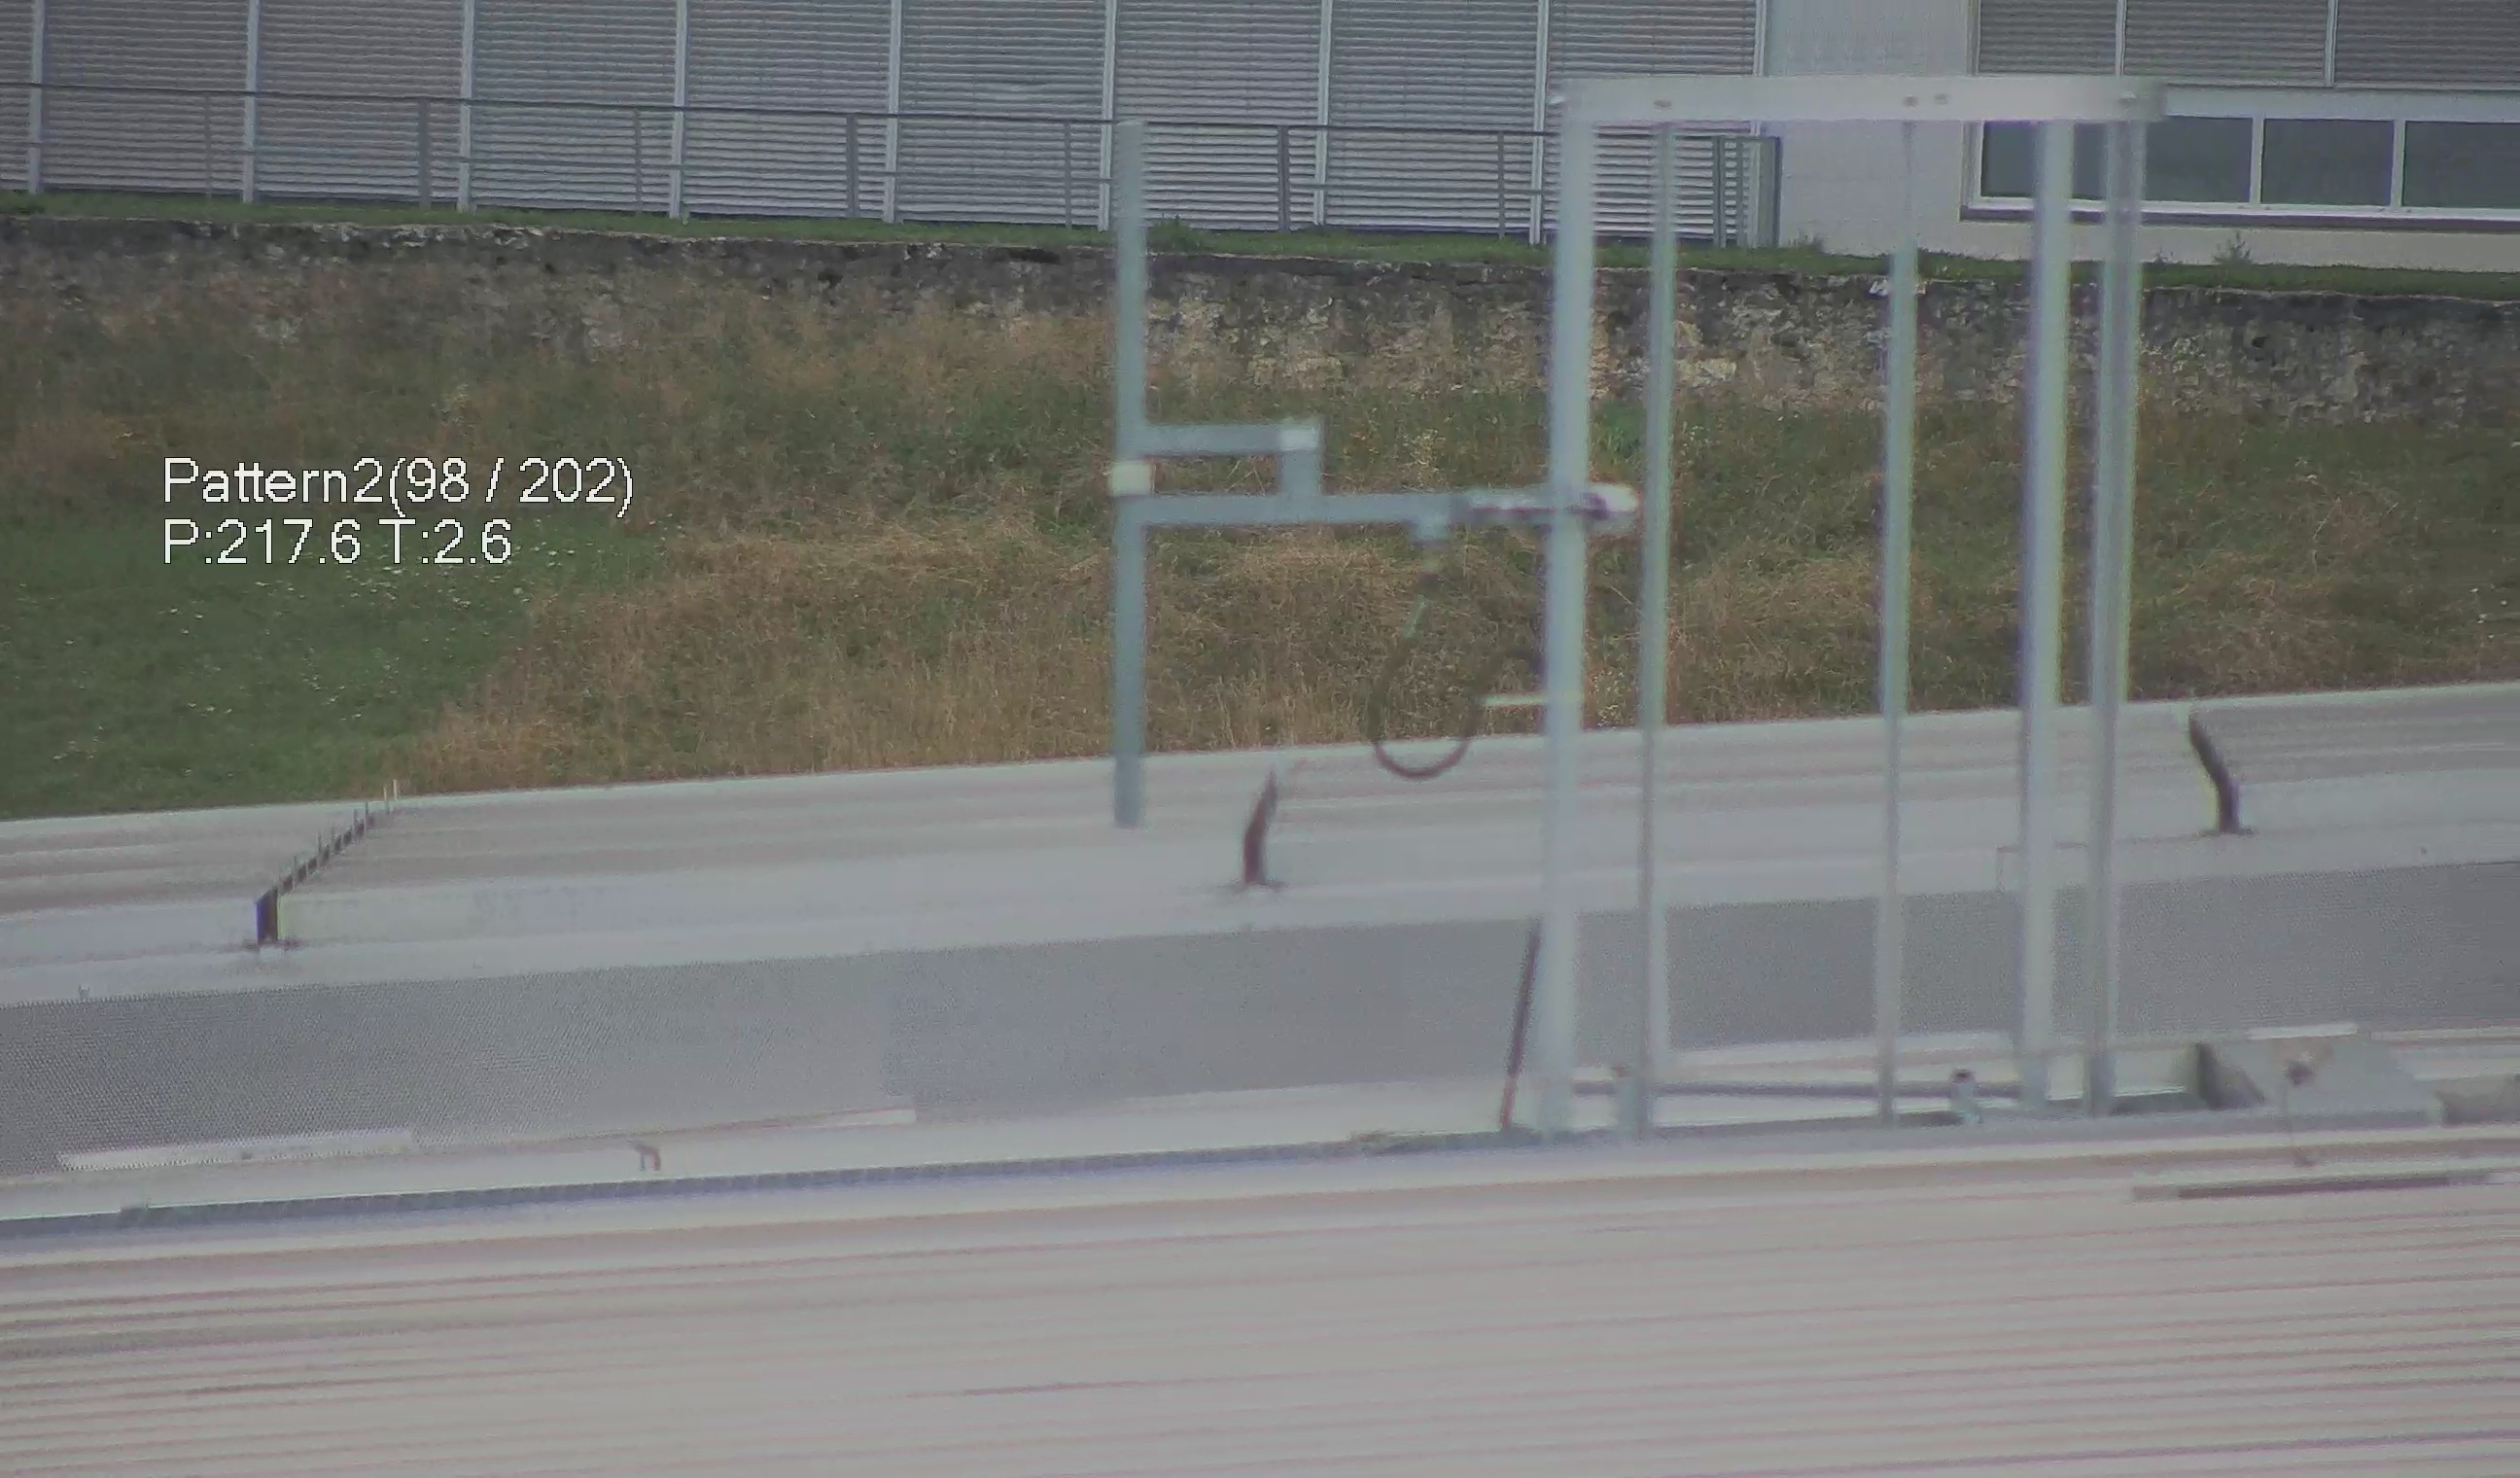Other: (1226, 750, 1298, 890)
